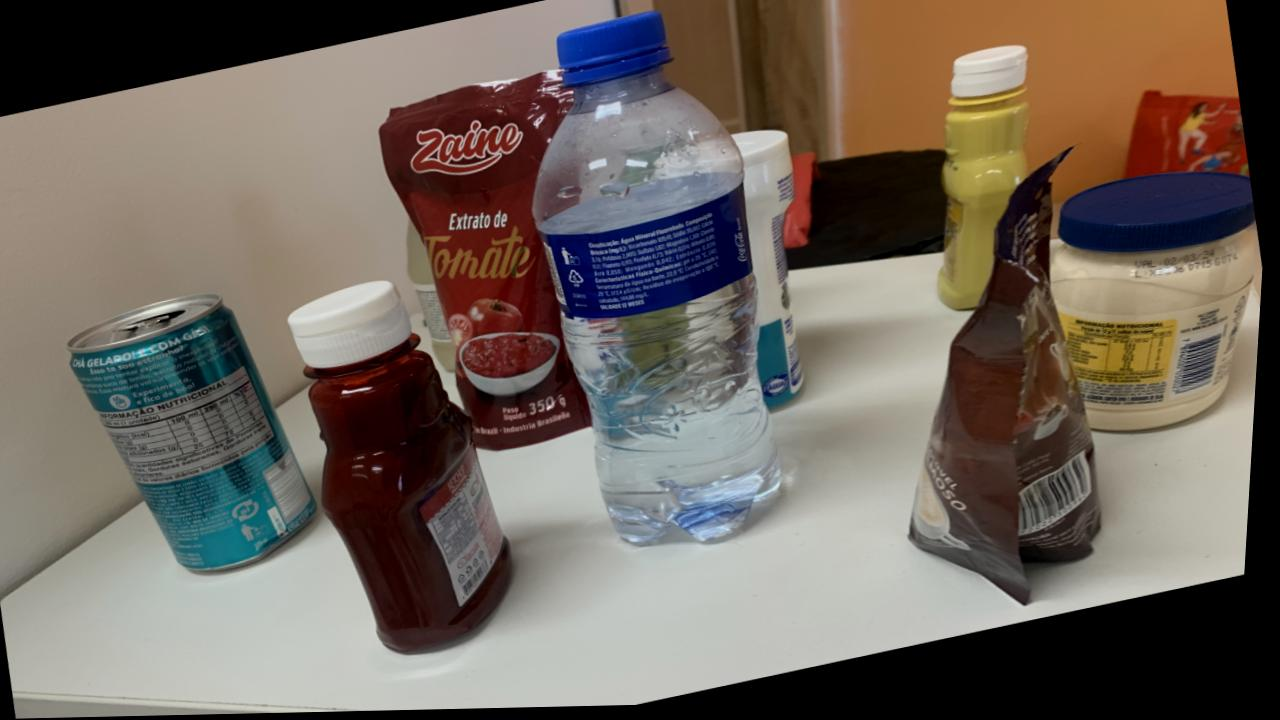Cleaner-Cleanup_Items: (735, 133, 810, 413)
Coffee-Pantry_Items: (916, 158, 1108, 609)
Ketchup-Pantry_Items: (292, 282, 519, 655)
Mayonnaise-Pantry_Items: (1053, 176, 1259, 436)
Mustard-Pantry_Items: (941, 49, 1030, 314)
Tea-Drinks: (73, 295, 323, 572)
Tomato_Sauce-Pantry_Items: (381, 72, 594, 452)
Water_Bottle-Drinks: (534, 16, 788, 547)
